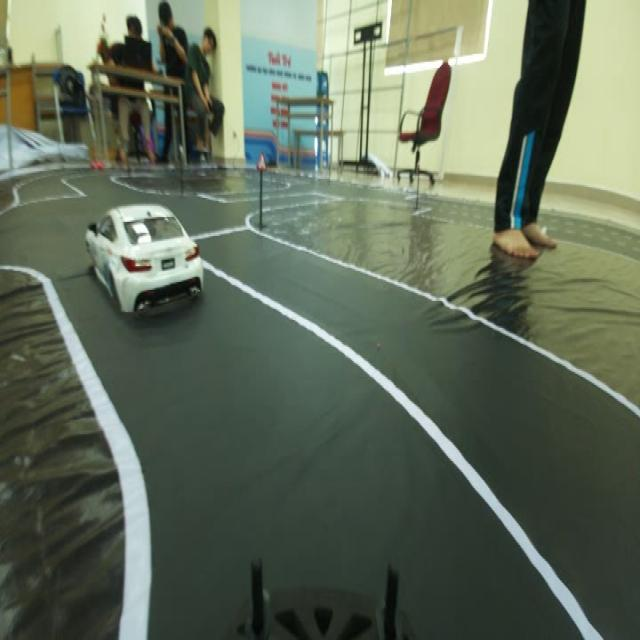car: (80, 195, 210, 331)
